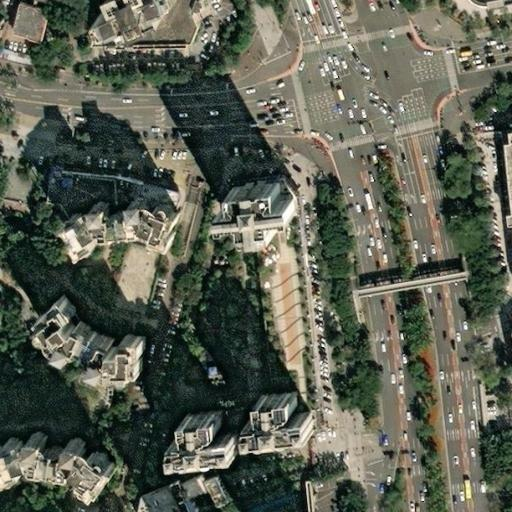building: (36, 299, 144, 380), (93, 0, 229, 57), (96, 225, 156, 354), (0, 432, 116, 491), (46, 173, 179, 221), (63, 202, 179, 252), (224, 185, 299, 236), (244, 392, 313, 438), (164, 408, 231, 455), (353, 273, 463, 301), (495, 135, 512, 301), (182, 476, 228, 512), (95, 0, 164, 23), (0, 3, 34, 38), (236, 491, 289, 512), (134, 490, 182, 512), (307, 483, 316, 512)
